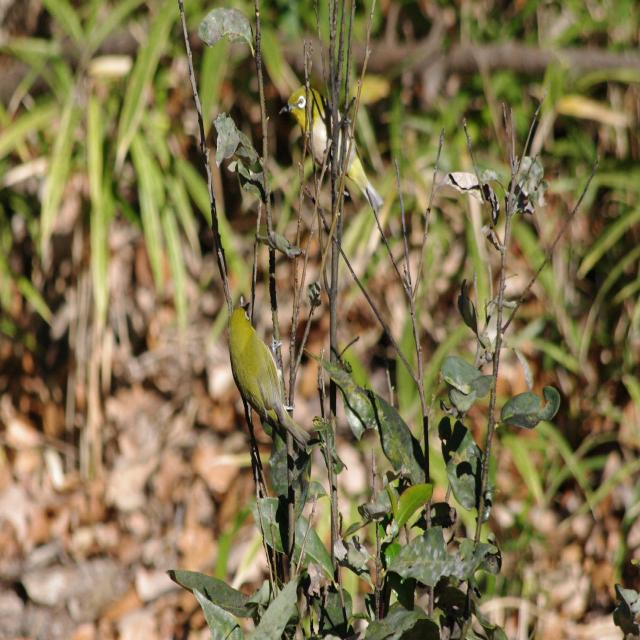bird: (224, 298, 313, 462), (274, 80, 382, 212)
